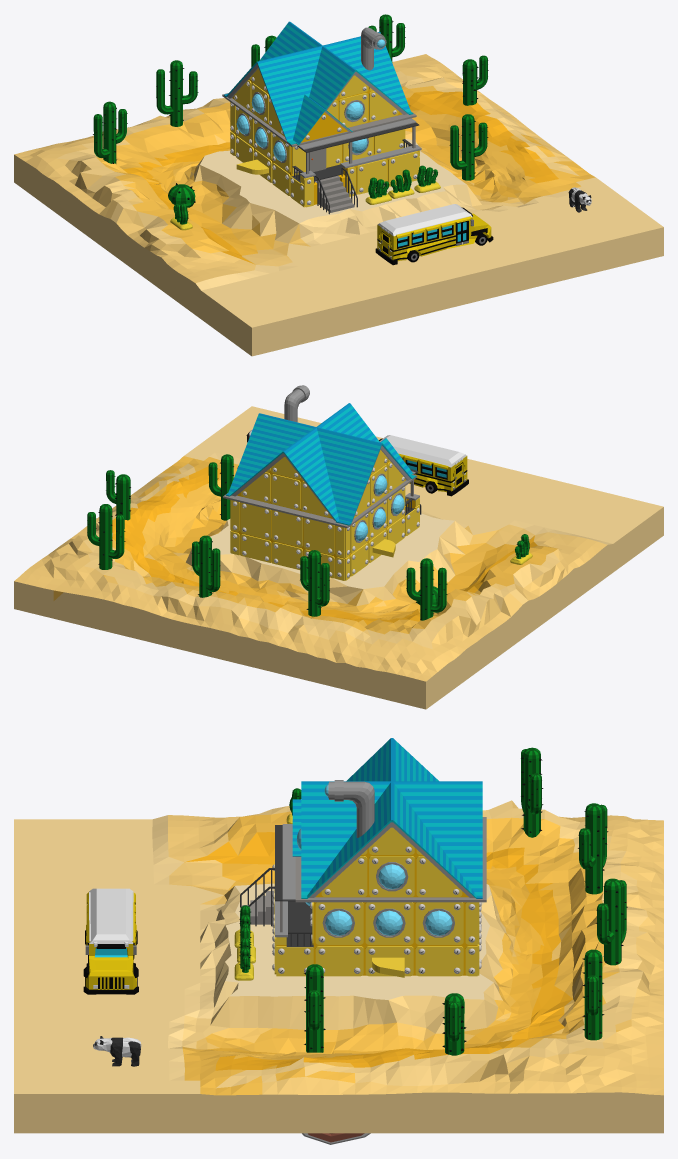
3 renders of one model, top to bottom at view 1: azimuth 30°, elevation 25°; view 2: azimuth 150°, elevation 25°; view 3: azimuth 270°, elevation 25°, orthographic. The views are drawn at different scales.
Parts seen in each view (by area): view 1: Cube.001, Cube.1366, VEHICLES_SCHOOL_BUS, Cylinder.044, Cylinder.037, Cylinder.045, Cylinder.038, Cylinder.042, Cylinder.039, Cylinder.041, Cylinder.040; view 2: Cube.001, Cube.1366, VEHICLES_SCHOOL_BUS, Cylinder.042, Cylinder.045, Cylinder.044, Cylinder.043, Cylinder.037, Cylinder.038; view 3: Cube.001, Cube.1366, VEHICLES_SCHOOL_BUS, Cylinder.044, Cylinder.043, Cylinder.045, Cylinder.042, Cylinder.037, Cylinder.038, ANIMAL_PANDA, Cylinder.041.
Part boxes in pixels (x1=…): Cube.001: x1=14, y1=54, x2=663, y2=356; Cube.1366: x1=222, y1=21, x2=421, y2=214; VEHICLES_SCHOOL_BUS: x1=375, y1=204, x2=493, y2=265; Cylinder.044: x1=156, y1=60, x2=198, y2=126; Cylinder.037: x1=449, y1=114, x2=488, y2=180; Cylinder.045: x1=93, y1=101, x2=127, y2=163; Cylinder.038: x1=462, y1=55, x2=488, y2=105; Cylinder.042: x1=368, y1=14, x2=405, y2=62; Cylinder.039: x1=365, y1=177, x2=391, y2=204; Cylinder.041: x1=414, y1=165, x2=440, y2=192; Cylinder.040: x1=388, y1=169, x2=414, y2=198; Cube.001: x1=14, y1=406, x2=663, y2=709; Cube.1366: x1=223, y1=385, x2=421, y2=580; VEHICLES_SCHOOL_BUS: x1=379, y1=435, x2=468, y2=496; Cylinder.042: x1=87, y1=504, x2=125, y2=569; Cylinder.045: x1=406, y1=558, x2=447, y2=620; Cylinder.044: x1=300, y1=550, x2=329, y2=616; Cylinder.043: x1=191, y1=535, x2=220, y2=597; Cylinder.037: x1=208, y1=454, x2=238, y2=520; Cylinder.038: x1=106, y1=470, x2=130, y2=520; Cube.001: x1=14, y1=800, x2=663, y2=1133; Cube.1366: x1=240, y1=738, x2=486, y2=977; VEHICLES_SCHOOL_BUS: x1=83, y1=888, x2=138, y2=994; Cylinder.044: x1=578, y1=803, x2=608, y2=894; Cylinder.043: x1=595, y1=878, x2=627, y2=965; Cylinder.045: x1=521, y1=747, x2=543, y2=837; Cylinder.042: x1=582, y1=949, x2=604, y2=1040; Cylinder.037: x1=304, y1=964, x2=325, y2=1052; Cylinder.038: x1=442, y1=993, x2=466, y2=1055; ANIMAL_PANDA: x1=93, y1=1036, x2=141, y2=1066; Cylinder.041: x1=234, y1=938, x2=253, y2=980.
Bounding box in the file's own units: 4002 × 2430 × 4001.
Materials: 33 (2 with a texture image).
